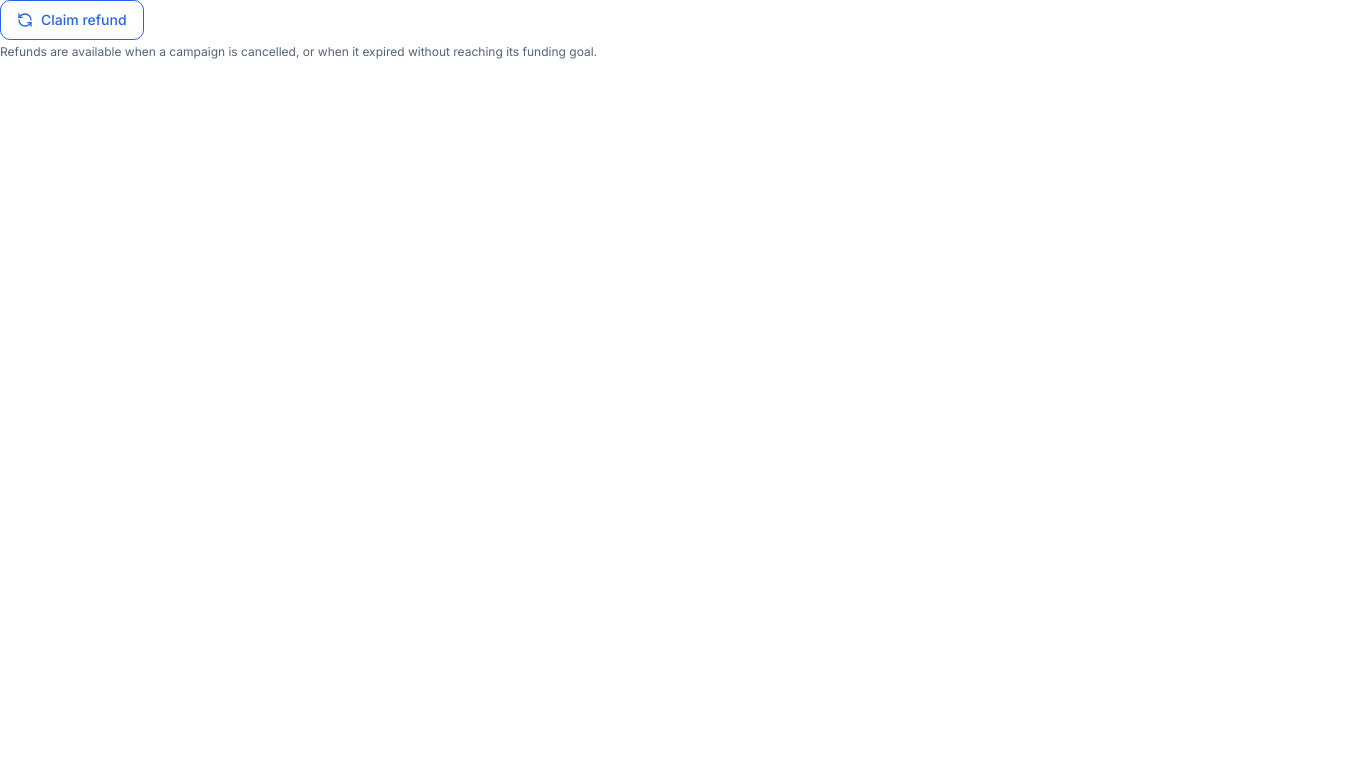
RefundButton — interaction › opens a confirmation dialog instead of refunding immediately
Step 1. Click the button "Claim refund" → [72, 20], box left=0, top=0, right=144, bottom=40
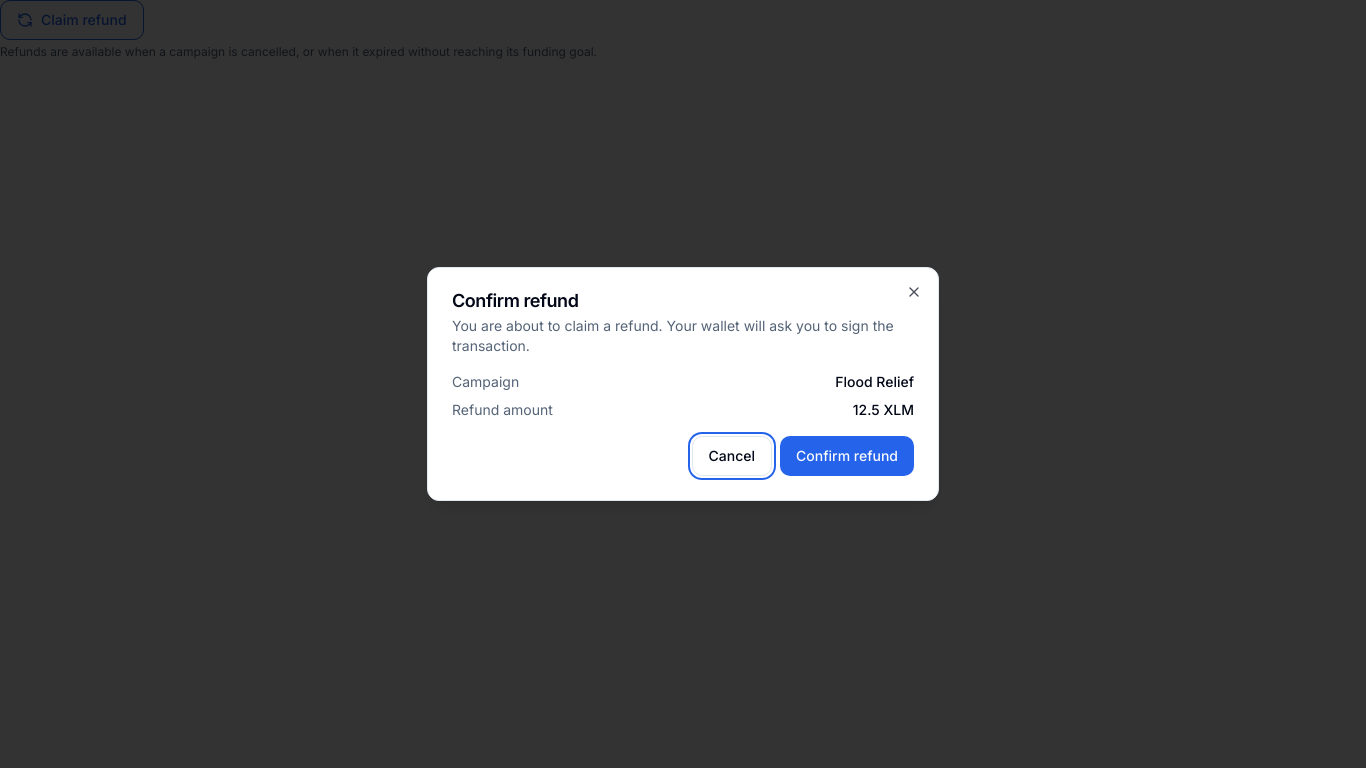
Expected: the dialog shows "Flood Relief", left=835, top=373, right=914, bottom=390
Expected: the dialog shows "12.5 XLM", left=853, top=401, right=914, bottom=418
